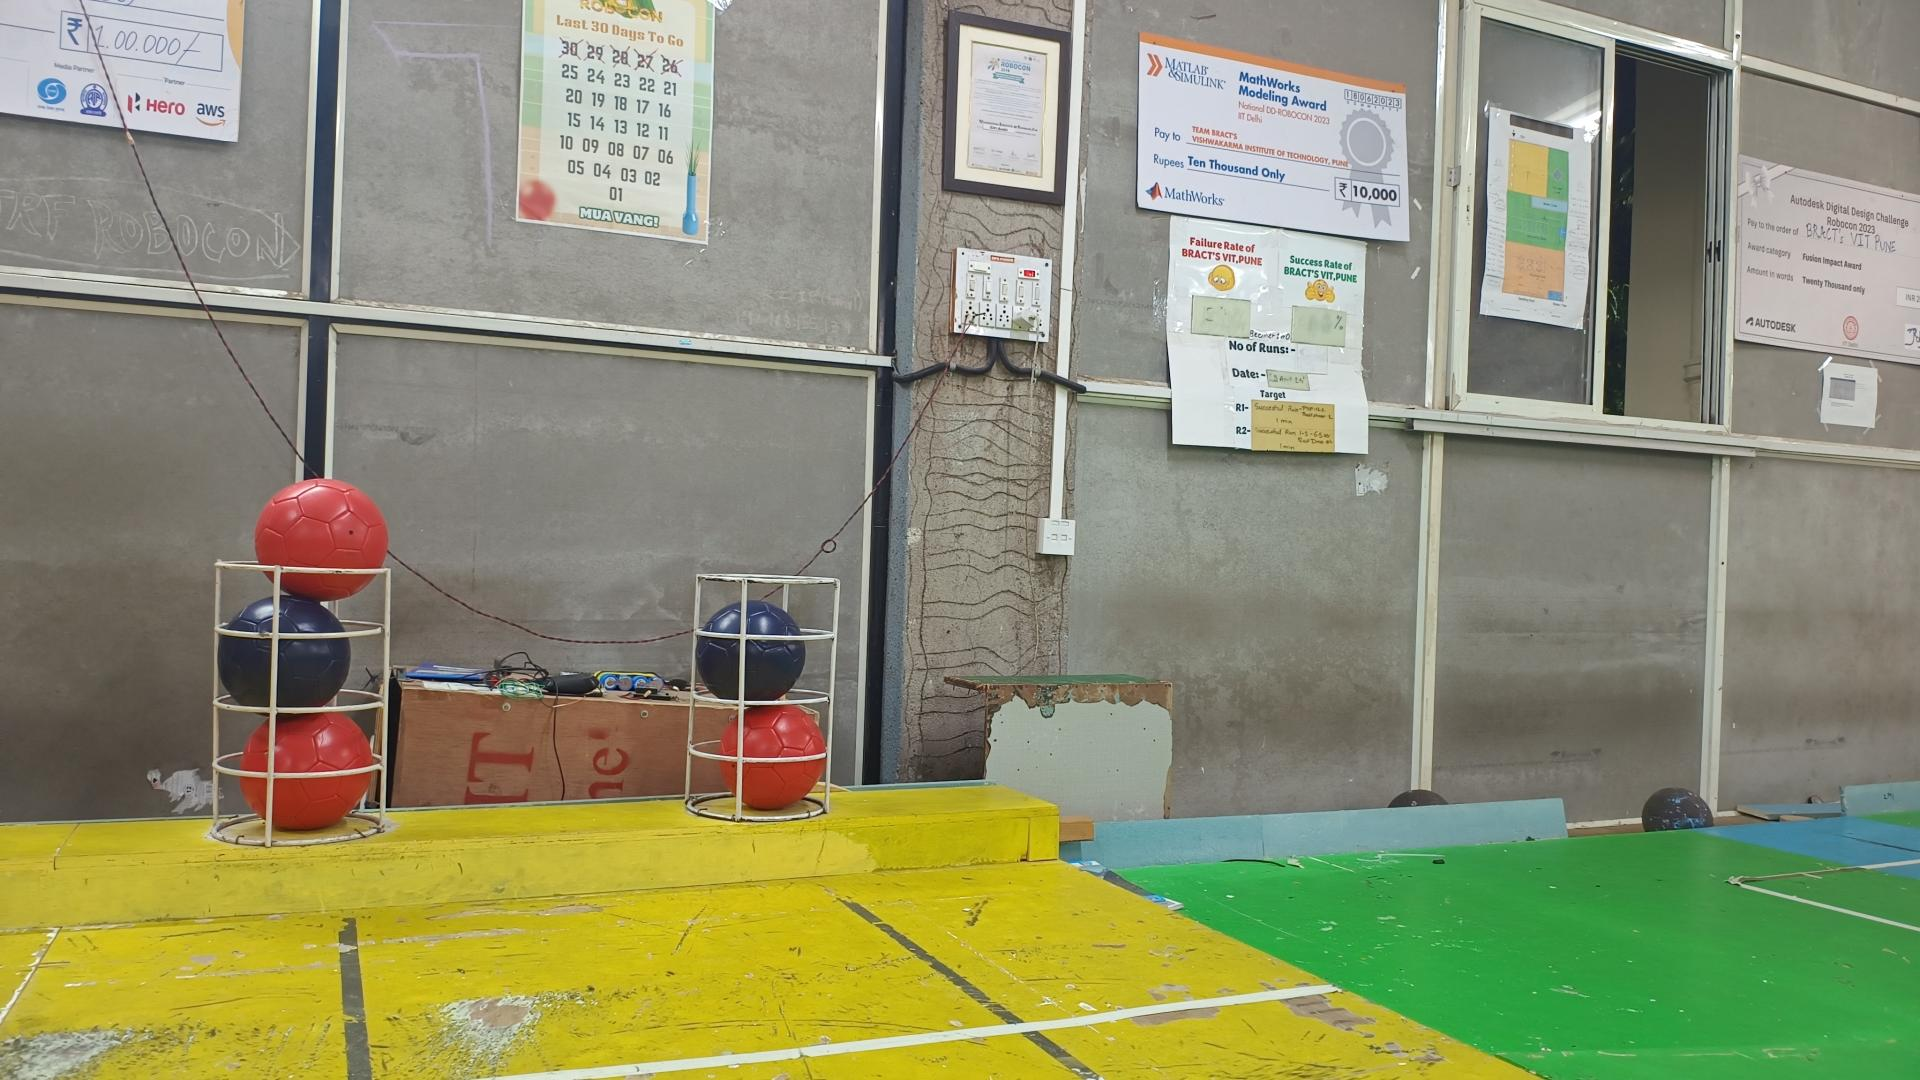dhoka: (218, 592, 352, 708), (694, 600, 806, 705)
laale: (255, 480, 390, 600), (240, 712, 375, 832), (720, 705, 825, 810)
